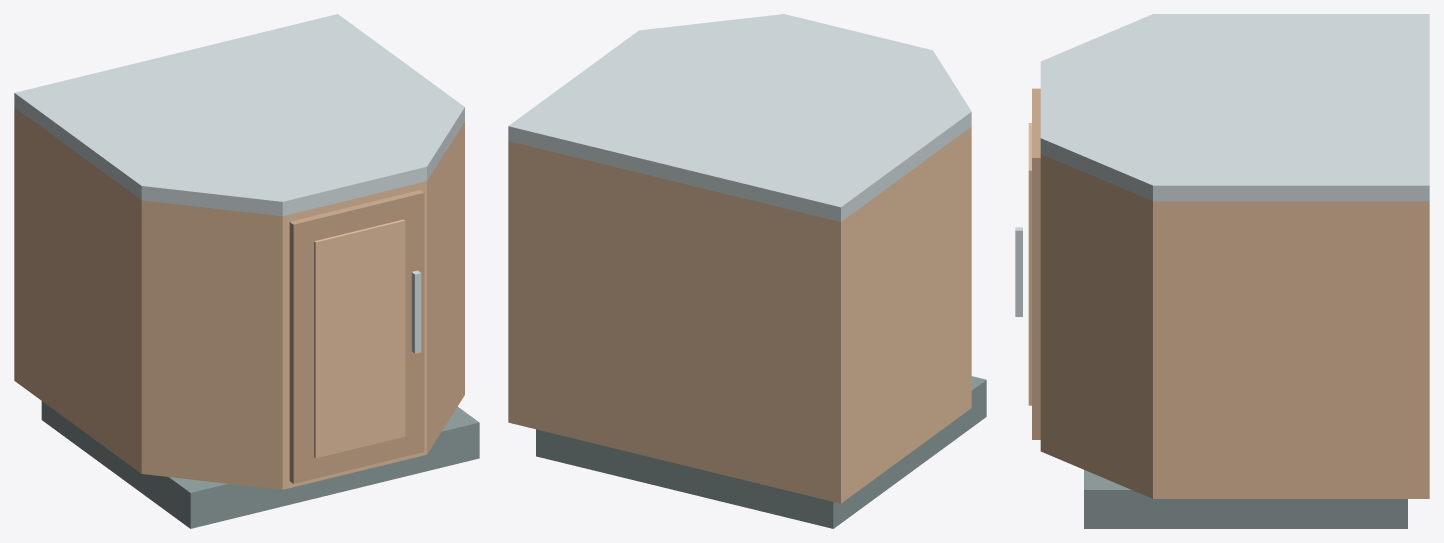
File: counterCornerL.glb
3 renders of one model, left to right at view 1: azimuth 30°, elevation 25°; view 2: azimuth 150°, elevation 25°; view 3: azimuth 270°, elevation 25°, orthographic. The views are drawn at different scales.
Visible parts, largest first — view 1: counterCornerL; view 2: counterCornerL; view 3: counterCornerL.
Boxes of the visible parts, left/top/right/bottom form: counterCornerL: left=14, top=14, right=479, bottom=528; counterCornerL: left=508, top=14, right=986, bottom=528; counterCornerL: left=1015, top=14, right=1429, bottom=528.
Bounding box in the file's own units: 0.47 × 0.45 × 0.4795.
